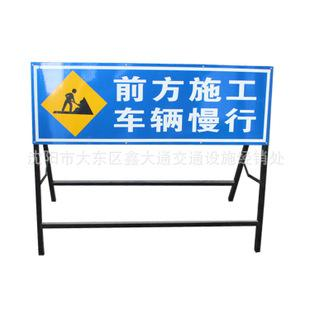sign: (34, 65, 267, 140)
